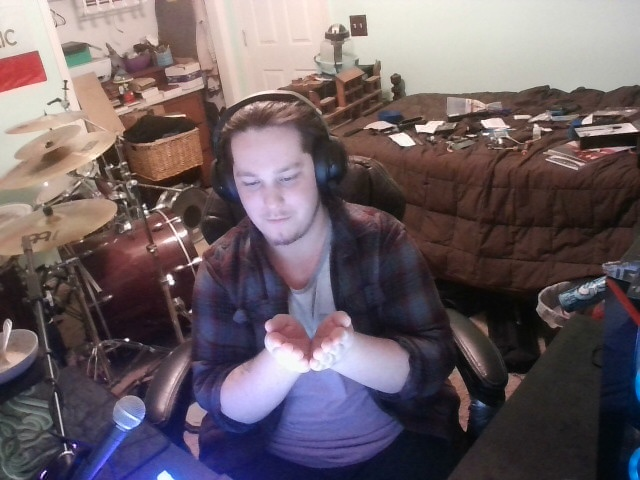book: (252, 307, 379, 392)
